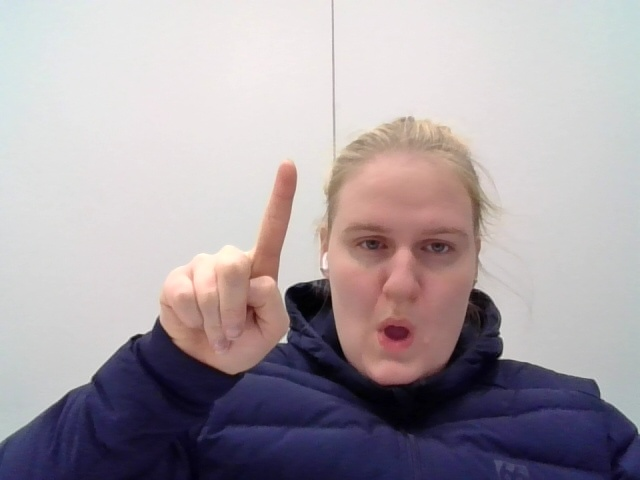up: (156, 152, 299, 392)
